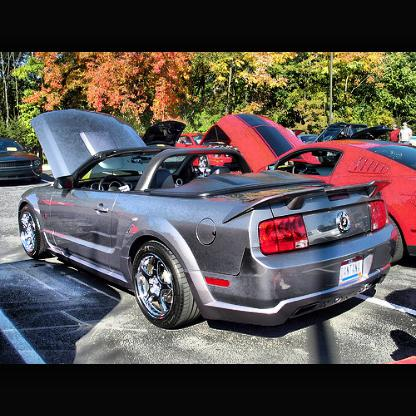Ford Mustang Convertible 2007: (16, 109, 396, 333)
